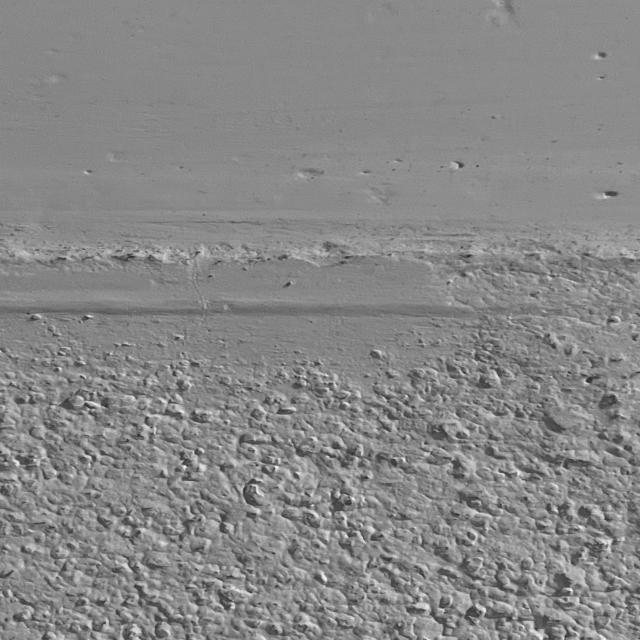rough and patchy surface: (5, 183, 640, 640)
